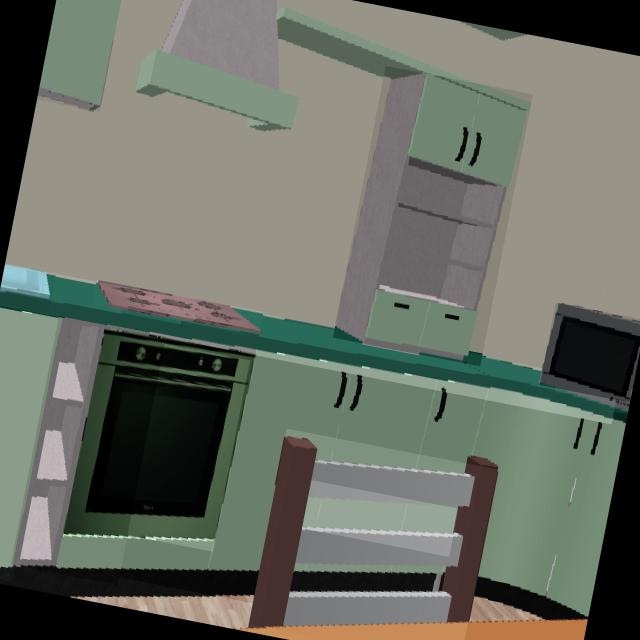cabinet: (58, 352, 626, 621), (335, 74, 530, 361), (0, 309, 62, 570), (37, 0, 121, 111), (303, 498, 458, 534)
chair: (250, 440, 495, 629)
countertop: (0, 276, 615, 418)
microwave: (542, 304, 640, 403)
oven: (80, 341, 243, 542)
shelf: (11, 320, 122, 571)
sink: (0, 264, 51, 303)
stove: (94, 284, 258, 338)
